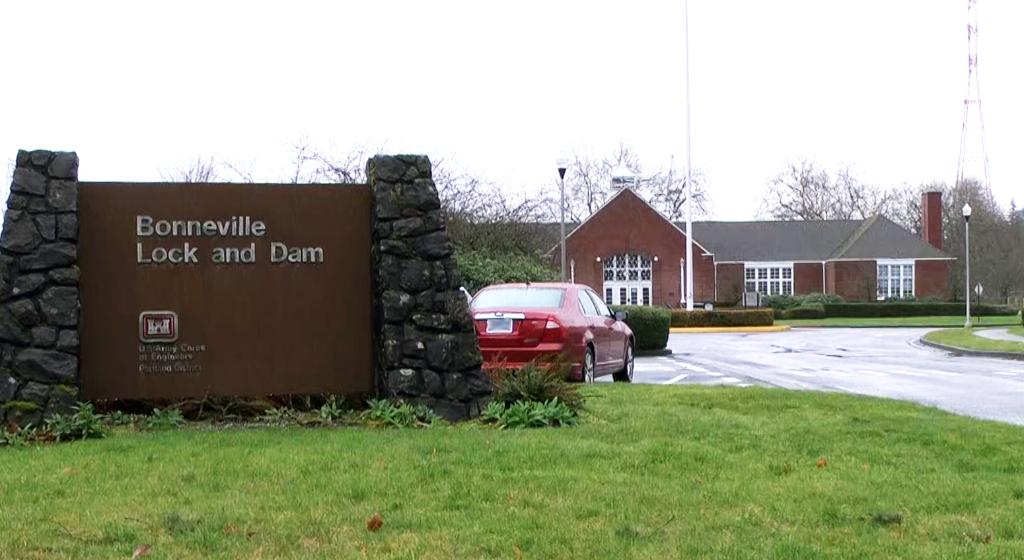Car: (461, 275, 639, 388)
